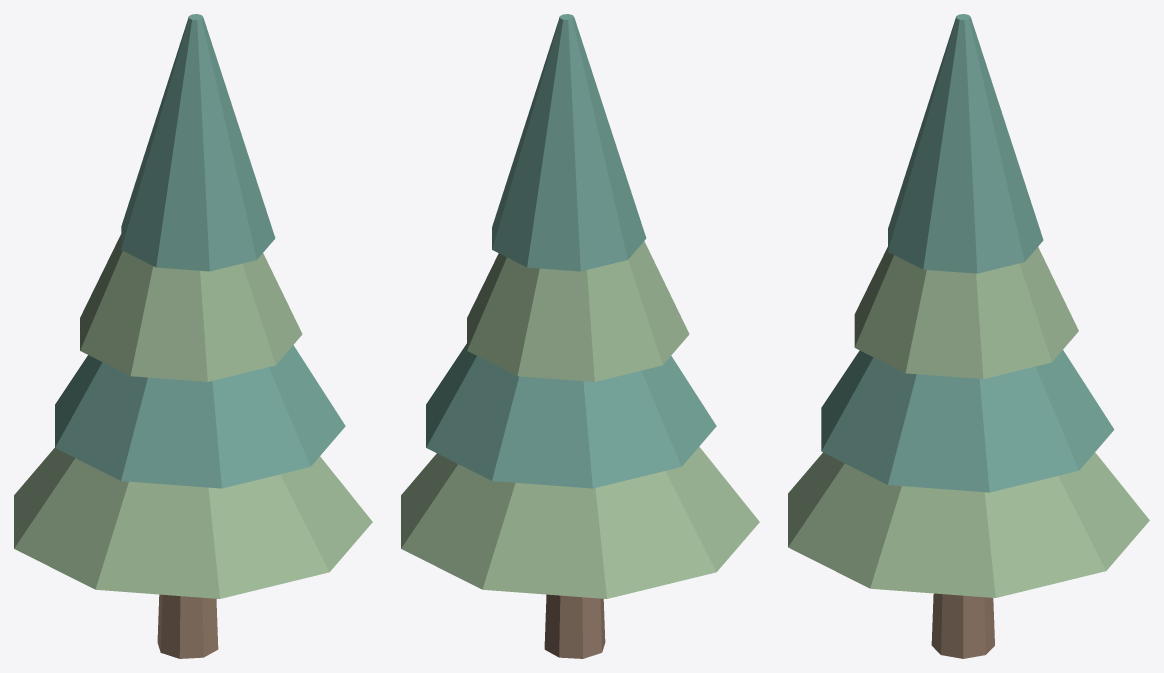
The model's file is tree_pine.fbx.
3 views of the same model, side by side, from view 1: azimuth 30°, elevation 25°; view 2: azimuth 150°, elevation 25°; view 3: azimuth 270°, elevation 25° (orthographic).
Visible parts, largest first — view 1: tree_pine_mesh; view 2: tree_pine_mesh; view 3: tree_pine_mesh.
Part boxes in pixels (x1,y1,x2,y2): tree_pine_mesh: (14, 14, 372, 658); tree_pine_mesh: (401, 14, 759, 658); tree_pine_mesh: (788, 14, 1149, 658).
Bounding box in the file's own units: 1.97 × 3.74 × 1.94.
